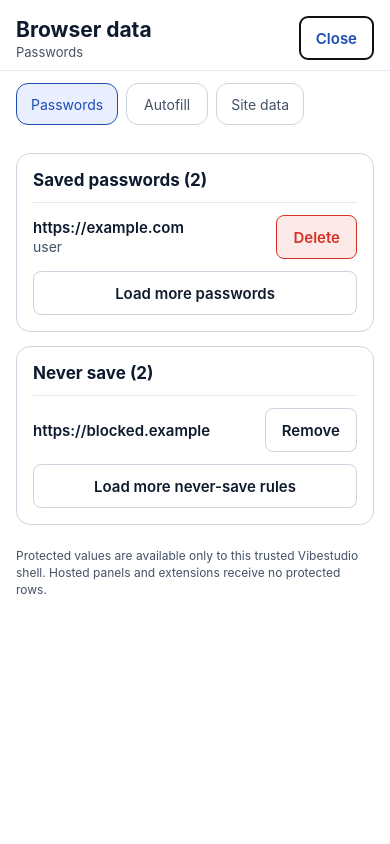
Test case: BrowserPrivacyManager › paginates never-save rules independently from password rows
Expected: the text "https://blocked.example" is shown, [33,420,210,440]
Click the button "Load more never-save rules".
click(195, 486)  # box [33,464,357,508]
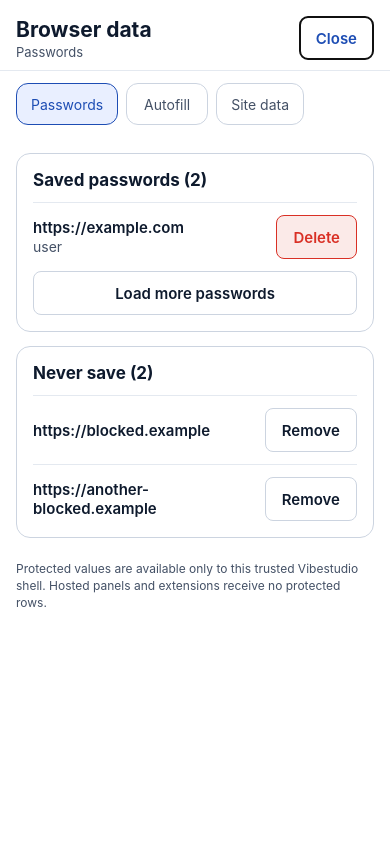
Result: the text "https://another-blocked.example" is shown at [33,480,157,518]
